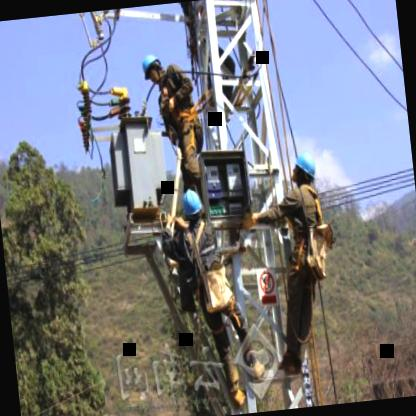helmet: (290, 148, 320, 196), (137, 48, 167, 94), (178, 184, 205, 224)
